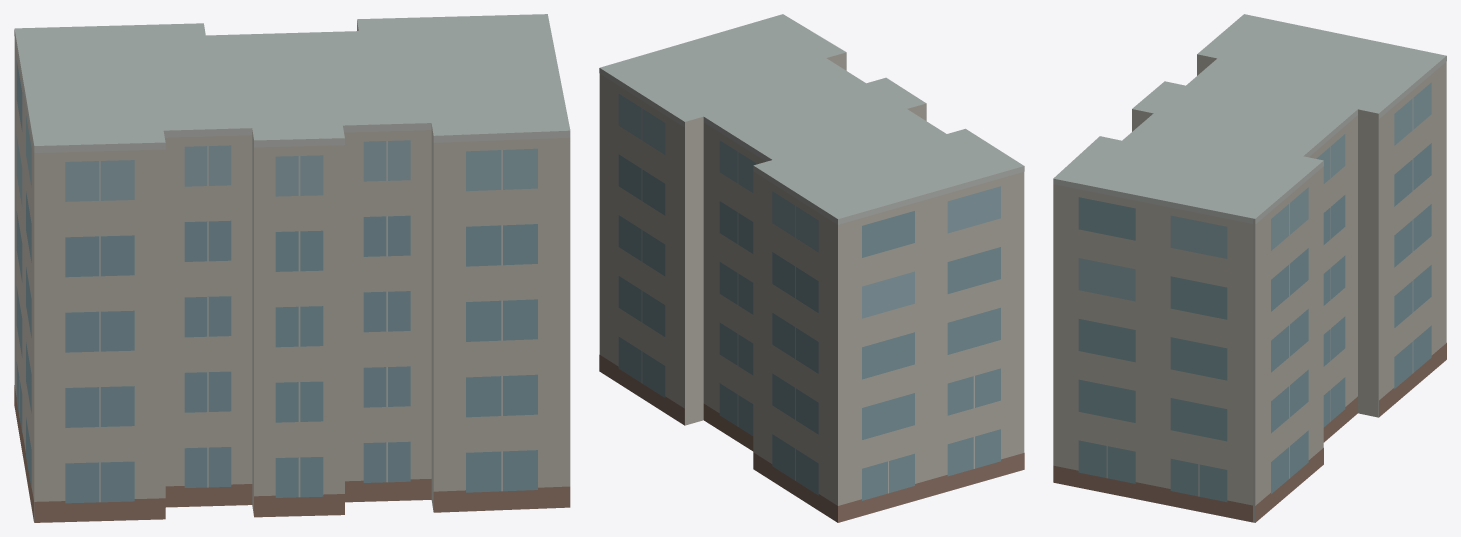
The model's file is survey-upis-32885868.glb.
3 renders of one model, left to right at view 1: azimuth 30°, elevation 25°; view 2: azimuth 150°, elevation 25°; view 3: azimuth 270°, elevation 25°, orthographic. The views are drawn at different scales.
Visible parts, largest first — view 1: survey-upis-32885868.tmp; view 2: survey-upis-32885868.tmp; view 3: survey-upis-32885868.tmp.
Part boxes in pixels (<box>): survey-upis-32885868.tmp: <box>14,14,570,522</box>; survey-upis-32885868.tmp: <box>599,14,1024,522</box>; survey-upis-32885868.tmp: <box>1053,14,1446,522</box>.
Size of the model in its own units: 19.02 by 13.15 by 15.44.
